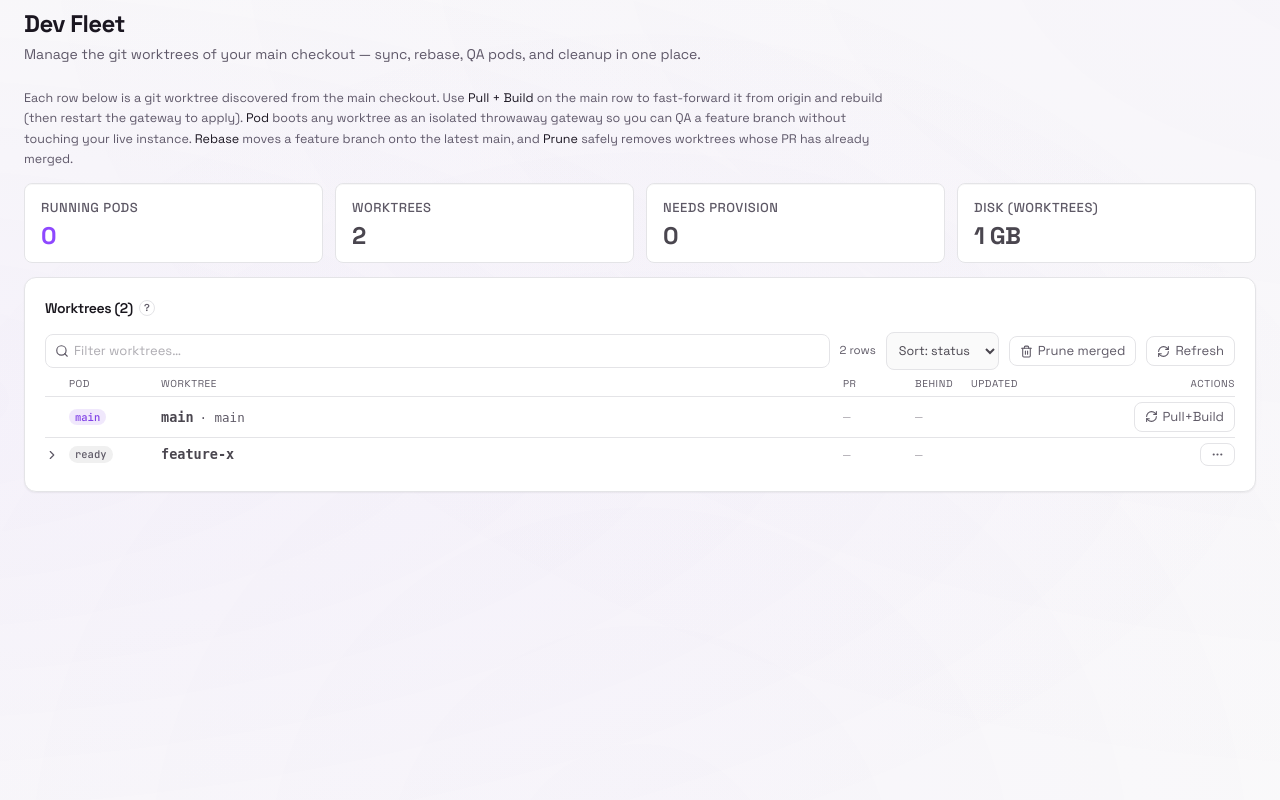
Test case: DevFleetPage › keeps pod actions when the backend omits pods_available (older backend)
The image size is (1280, 800).
Expected: the text "feature-x" is shown, [161, 444, 234, 465]
Click the button named "More actions". click: (1218, 454)
box: [1200, 443, 1235, 466]
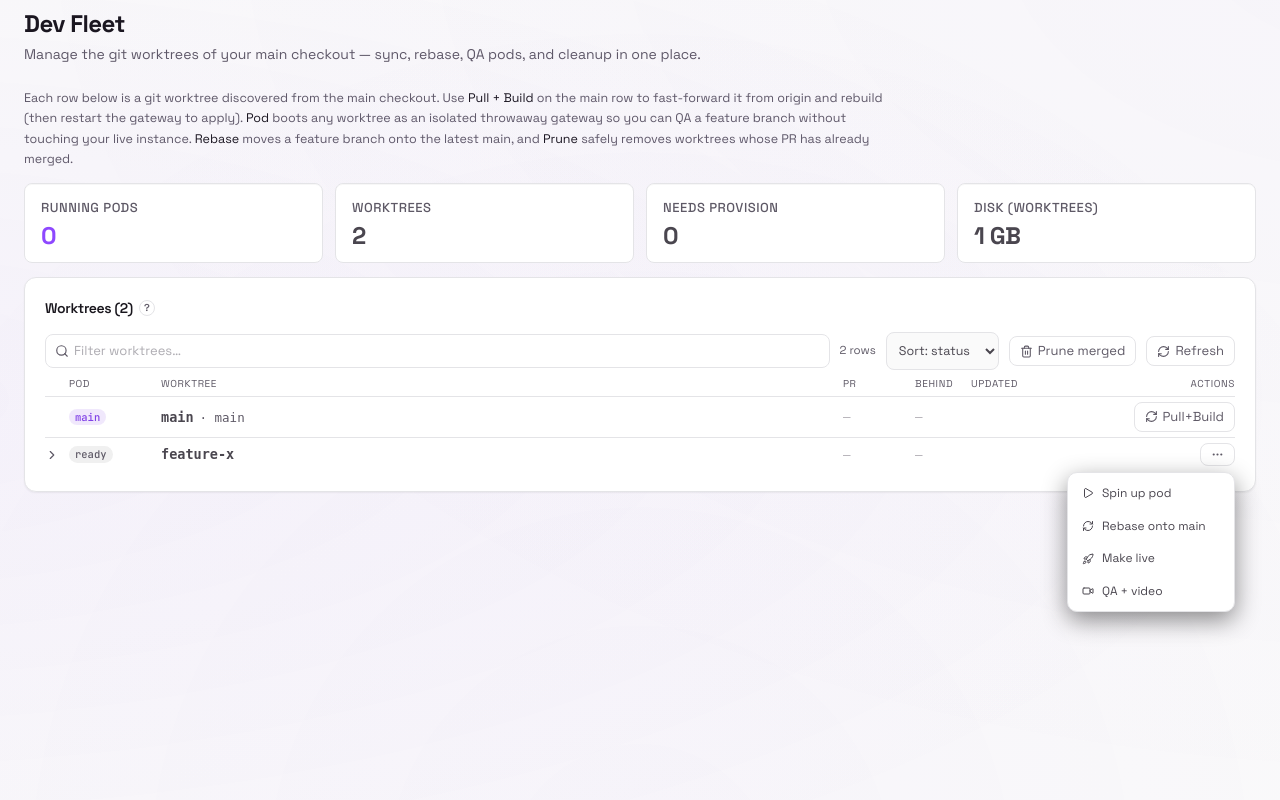
Expected: the button "Spin up pod" is shown, [1082, 485, 1172, 501]
